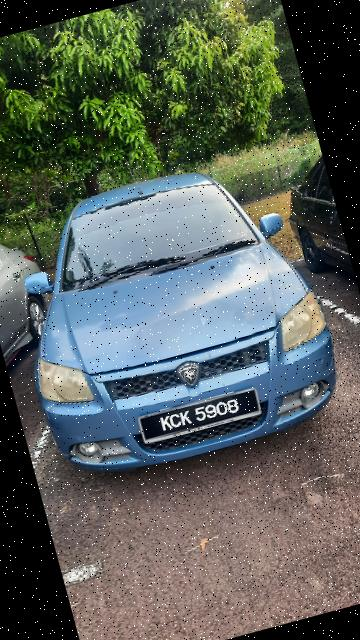License_Plate: (131, 379, 270, 455)
car: (1, 136, 360, 504)
